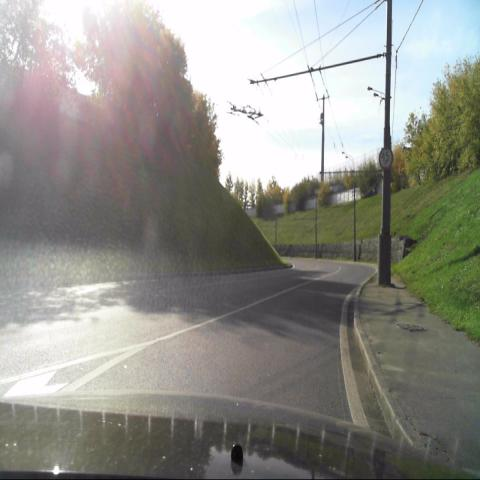3_13: (378, 143, 394, 174)
